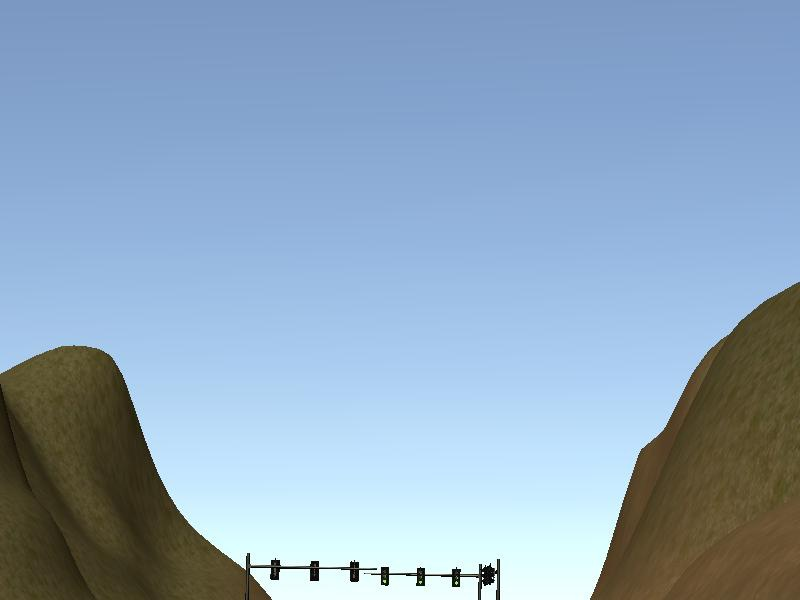green_light: (381, 567, 390, 588), (452, 570, 461, 589), (417, 568, 426, 586)
